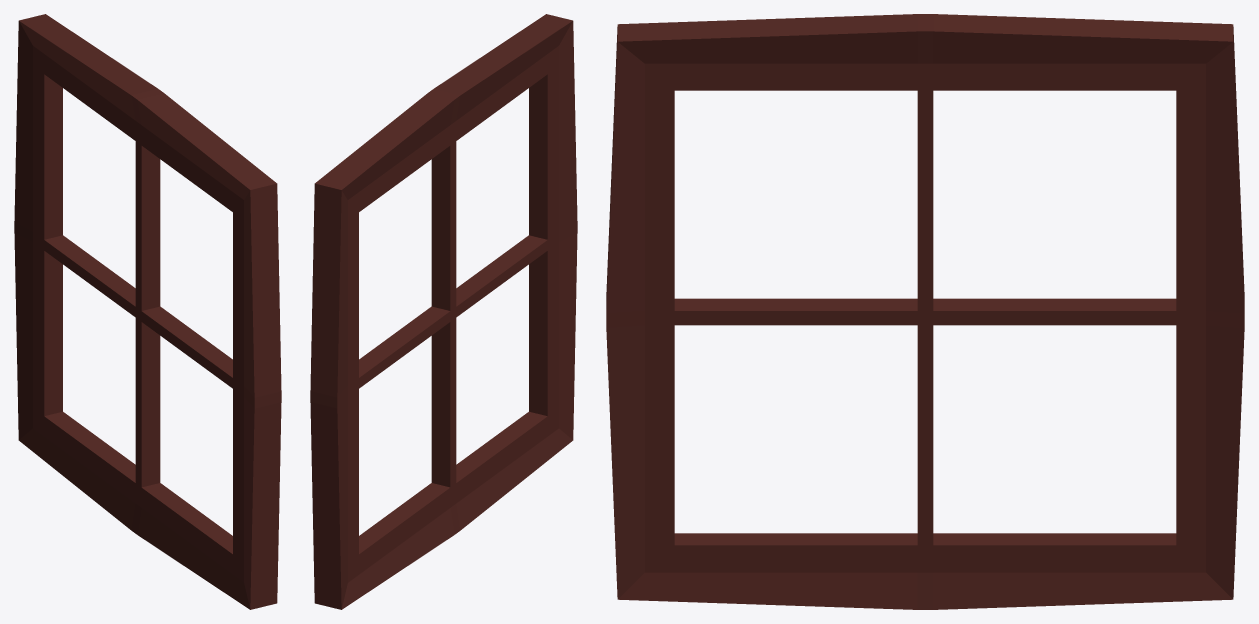
File: Window.fbx
3 renders of one model, left to right at view 1: azimuth 30°, elevation 25°; view 2: azimuth 150°, elevation 25°; view 3: azimuth 270°, elevation 25°, orthographic. The views are drawn at different scales.
Visible parts, largest first — view 1: Cube; view 2: Cube; view 3: Cube.
Boxes of the visible parts, bbox=[...] form: Cube: bbox=[14, 14, 281, 609]; Cube: bbox=[310, 14, 577, 609]; Cube: bbox=[606, 14, 1244, 609].
Size of the model in its own units: 16.47 by 255 by 255.
